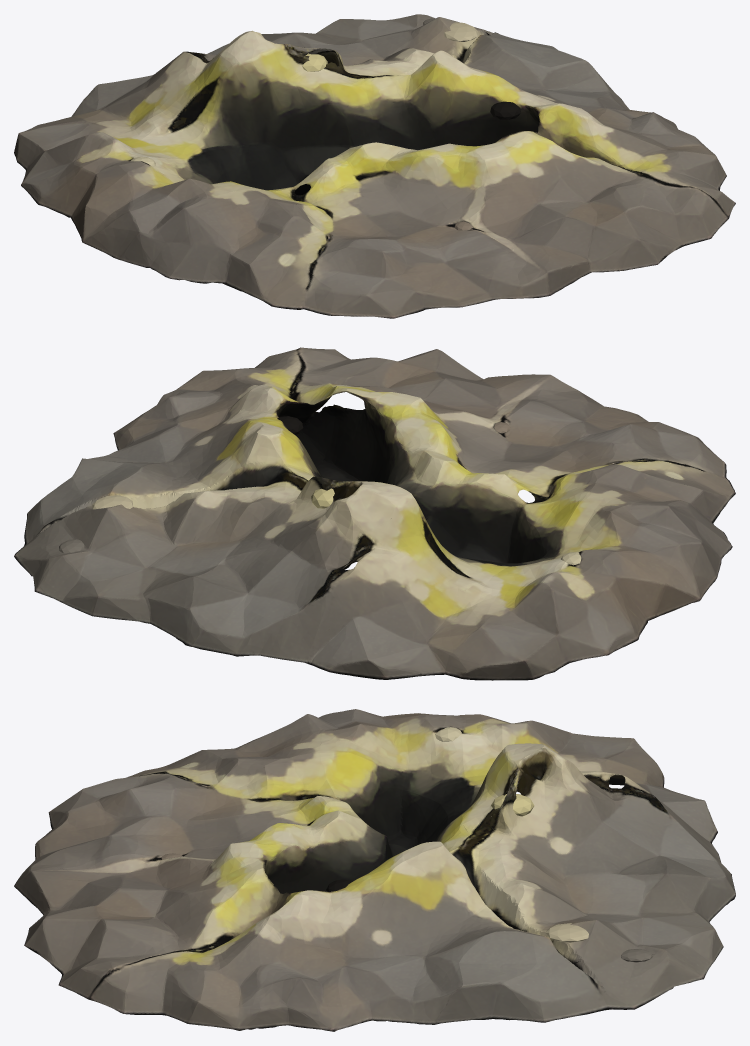
3 renders of one model, top to bottom at view 1: azimuth 30°, elevation 25°; view 2: azimuth 150°, elevation 25°; view 3: azimuth 270°, elevation 25°, orthographic. The views are drawn at different scales.
Visible parts, largest first — view 1: geometry_0; view 2: geometry_0; view 3: geometry_0.
Boxes of the visible parts, x1,y1,x2,y2 form: geometry_0: (14,14,735,318); geometry_0: (14,347,735,680); geometry_0: (14,709,735,1031).
Bounding box in the file's own units: 4.18 × 0.8616 × 4.22.
Materials: 1 (1 with a texture image).
